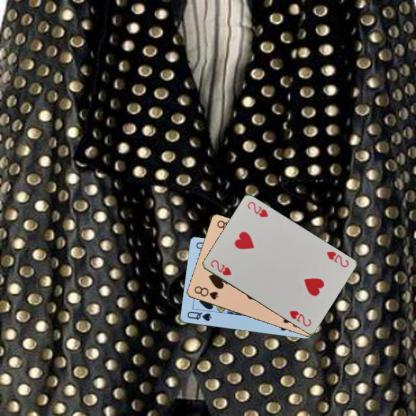2h: (324, 248, 350, 268), (208, 257, 232, 277)
8s: (191, 283, 220, 301)
Qs: (184, 309, 213, 323)
